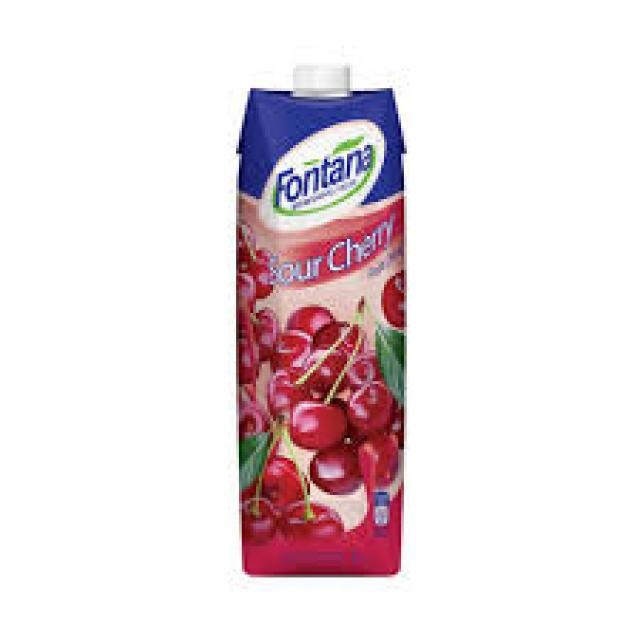non_white_jug: (209, 42, 422, 594)
